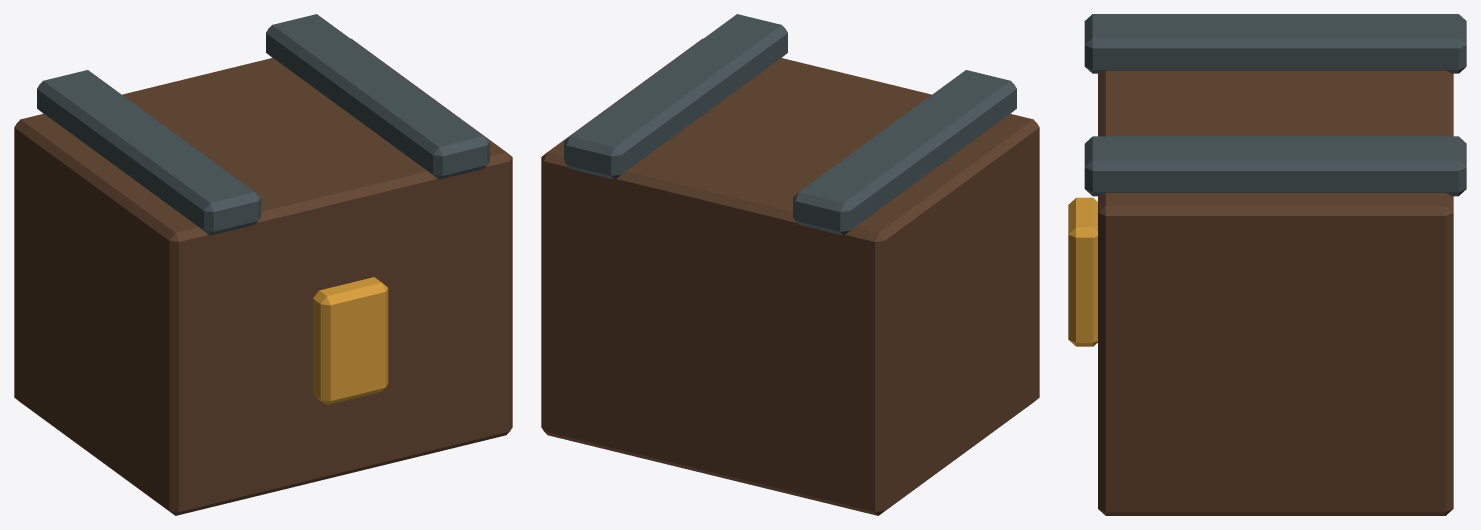
Rendered from small_lockbox.glb.
The picture shows the model from 3 angles, left to right: view 1: azimuth 30°, elevation 25°; view 2: azimuth 150°, elevation 25°; view 3: azimuth 270°, elevation 25°; orthographic projection. The views are drawn at different scales.
Parts seen in each view (by area): view 1: small_lockbox__body__wood_dark, small_lockbox__body__metal, small_lockbox__body__brass; view 2: small_lockbox__body__wood_dark, small_lockbox__body__metal; view 3: small_lockbox__body__wood_dark, small_lockbox__body__metal, small_lockbox__body__brass.
Part boxes in pixels (x1,y1,x2,y2): small_lockbox__body__wood_dark: (14,38,512,515); small_lockbox__body__metal: (37,14,489,235); small_lockbox__body__brass: (313,277,388,404); small_lockbox__body__wood_dark: (541,38,1039,515); small_lockbox__body__metal: (564,14,1016,235); small_lockbox__body__wood_dark: (1098,70,1453,515); small_lockbox__body__metal: (1084,14,1466,196); small_lockbox__body__brass: (1068,197,1097,346).
Bounding box in the file's own units: 0.33 × 0.285 × 0.3025.
